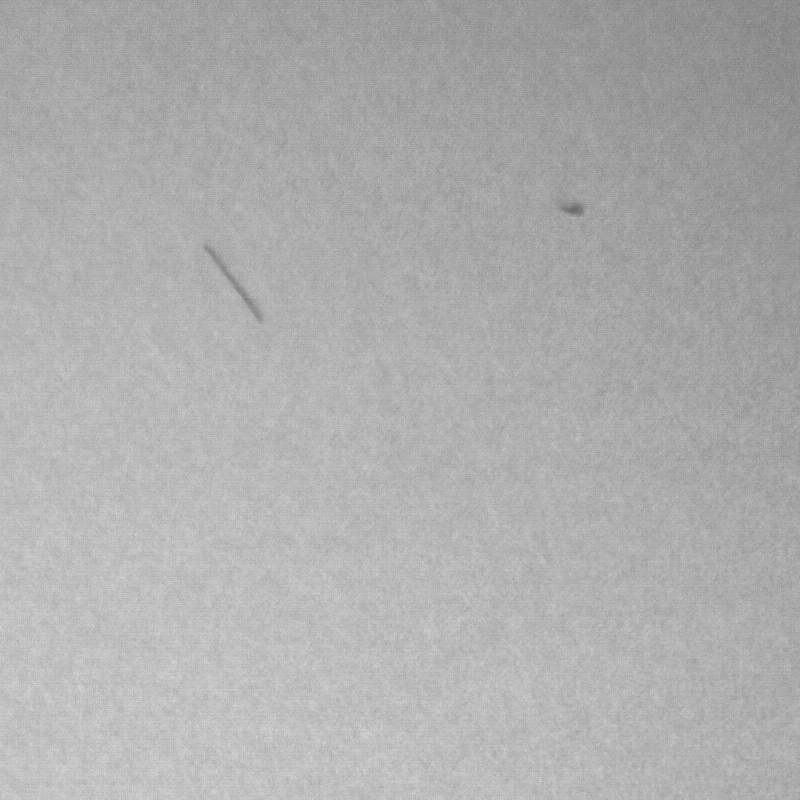defect: (206, 247, 269, 332), (562, 201, 589, 222)
